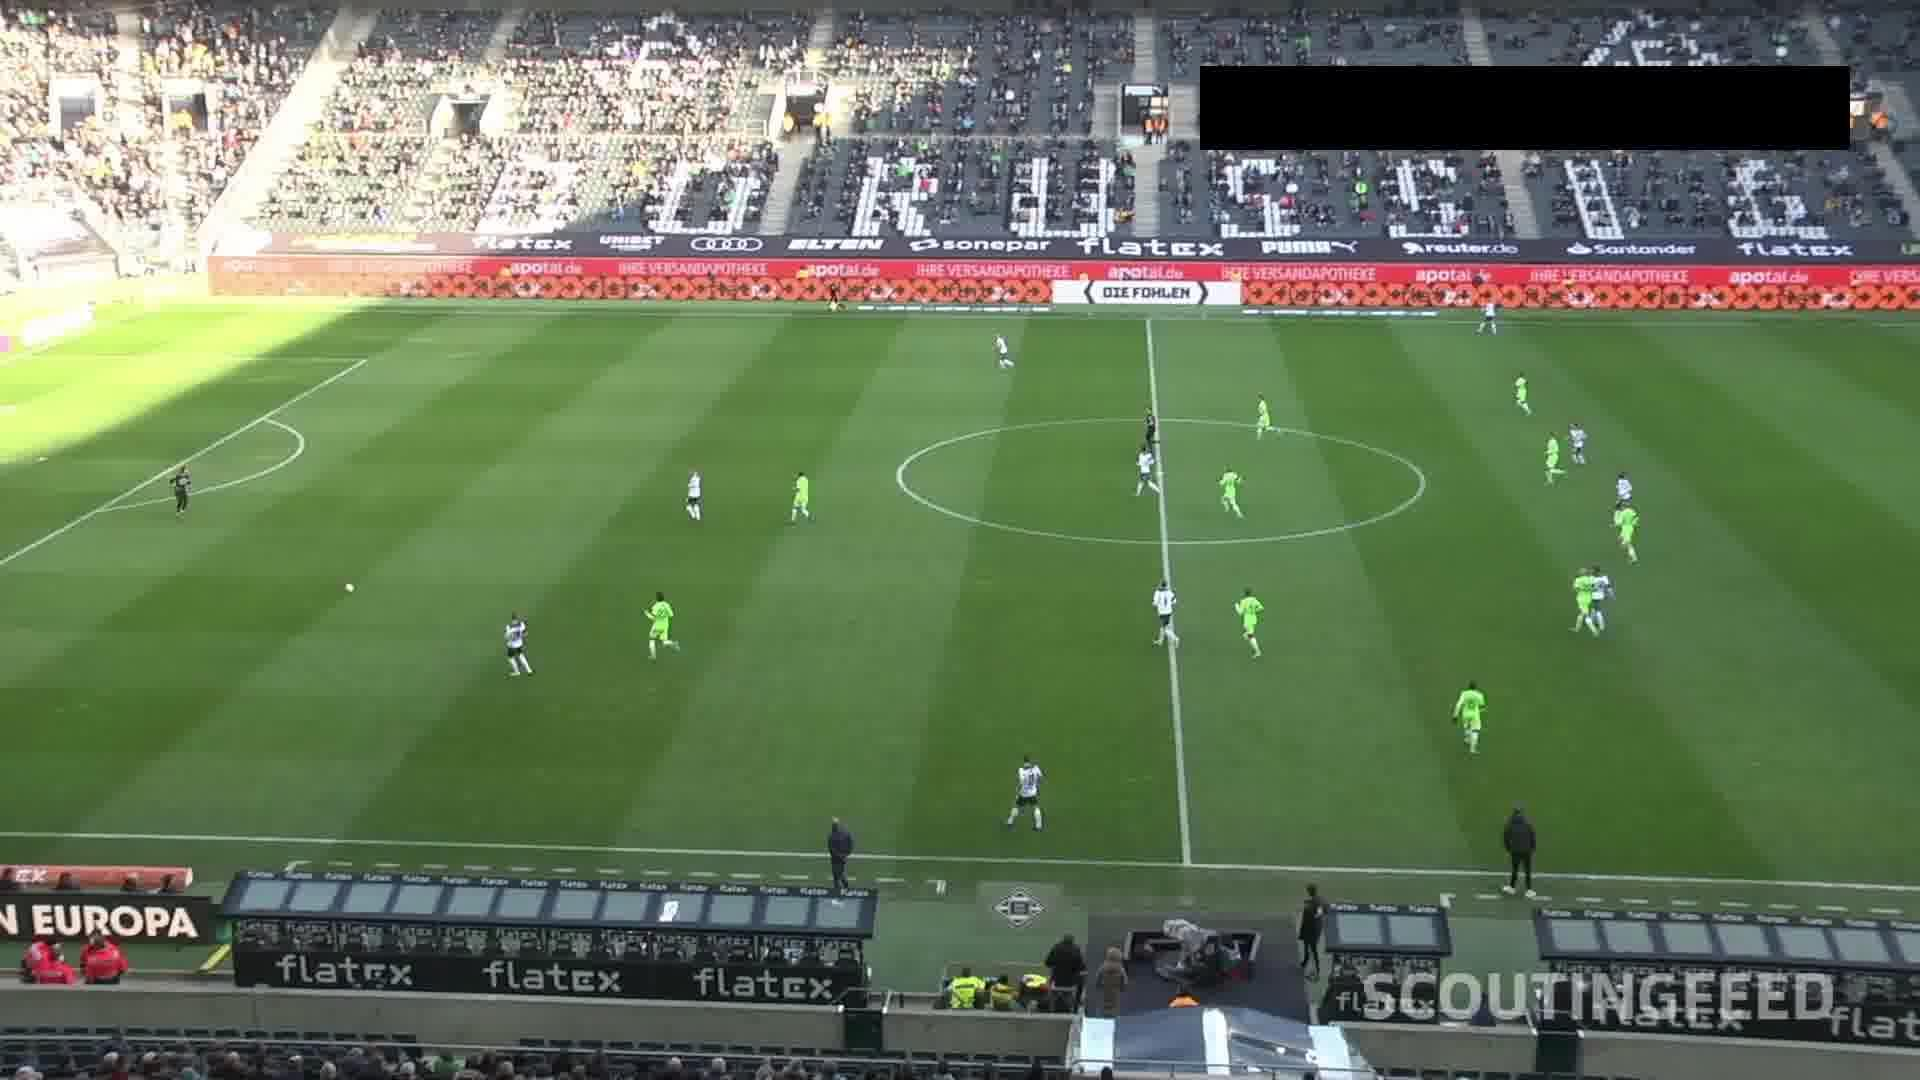football: (344, 583, 356, 592)
